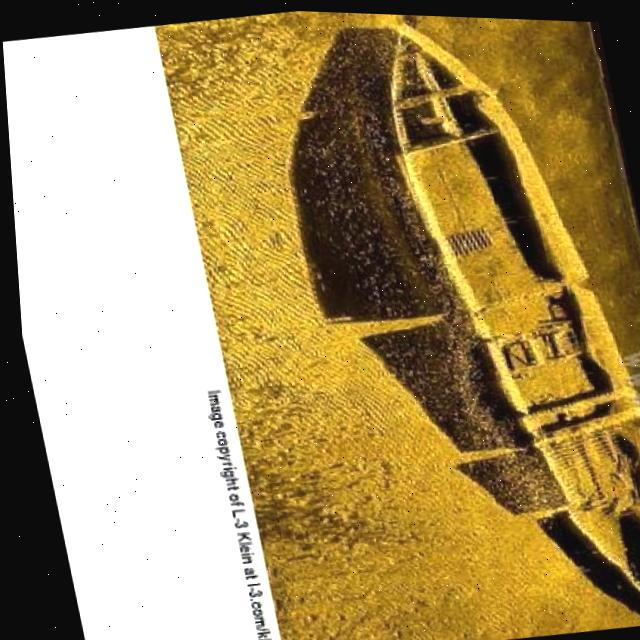shipwreck: (359, 10, 640, 640)
